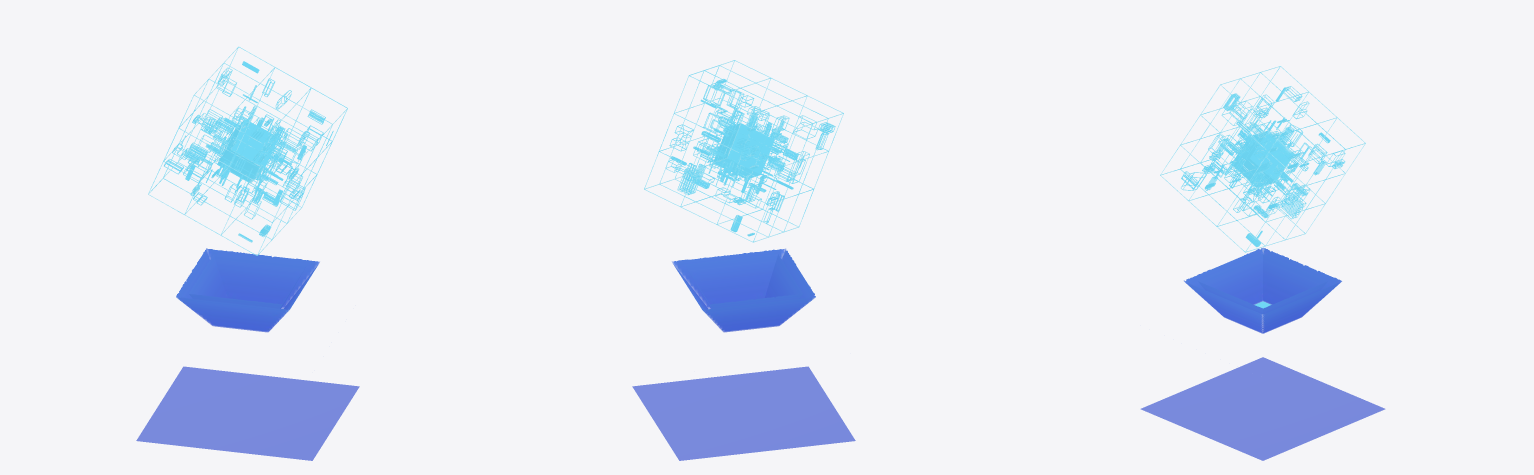
3 renders of one model, left to right at view 1: azimuth 30°, elevation 25°; view 2: azimuth 150°, elevation 25°; view 3: azimuth 270°, elevation 25°, orthographic. The views are drawn at different scales.
Parts seen in each view (by area): view 1: 空白; view 2: 空白; view 3: 空白.
Part boxes in pixels (<box>): 空白: <box>136,46,359,460</box>; 空白: <box>632,60,855,460</box>; 空白: <box>1140,66,1385,460</box>.
Size of the model in its own units: 171 by 126 by 171.
